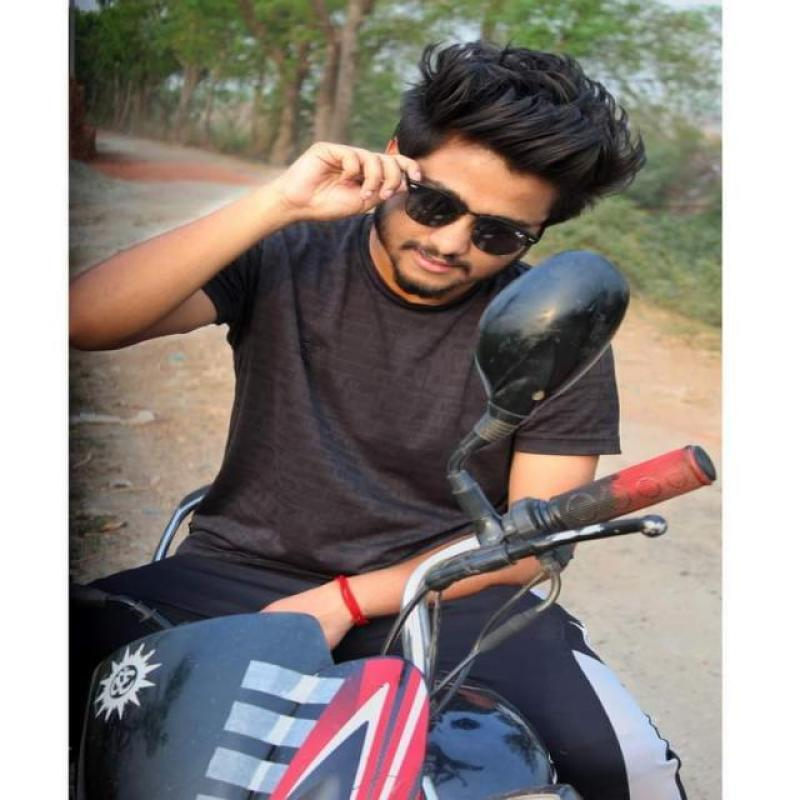nohelmet: (396, 53, 565, 307)
